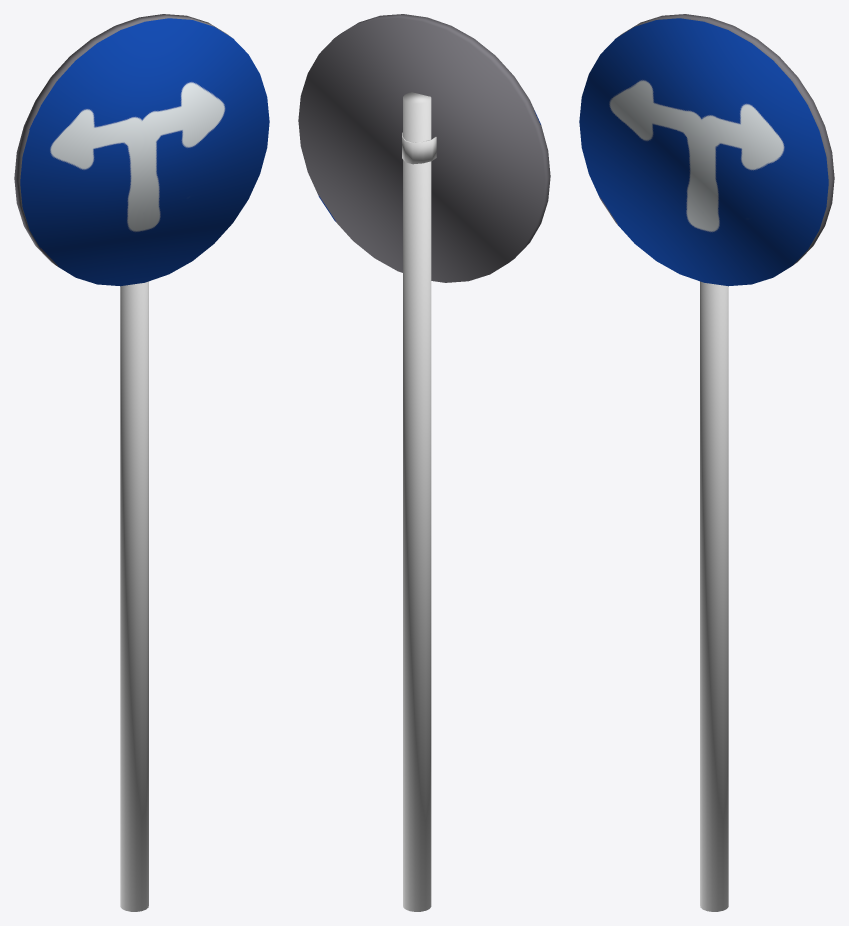
The model's file is left and right allowed.glb.
3 renders of one model, left to right at view 1: azimuth 30°, elevation 25°; view 2: azimuth 150°, elevation 25°; view 3: azimuth 330°, elevation 25°, orthographic.
Parts seen in each view (by area): view 1: Circle, Cylinder; view 2: Circle, Cylinder, Cube; view 3: Circle, Cylinder.
Part boxes in pixels (left/top/right/bottom): Circle: left=14, top=14, right=269, bottom=286; Cylinder: left=120, top=281, right=148, bottom=911; Circle: left=298, top=14, right=550, bottom=282; Cylinder: left=403, top=92, right=431, bottom=911; Cube: left=402, top=132, right=436, bottom=164; Circle: left=579, top=14, right=834, bottom=286; Cylinder: left=700, top=281, right=728, bottom=911.
Size of the model in its own units: 3.19 by 10.89 by 0.4093.
2 materials, 1 textured.
